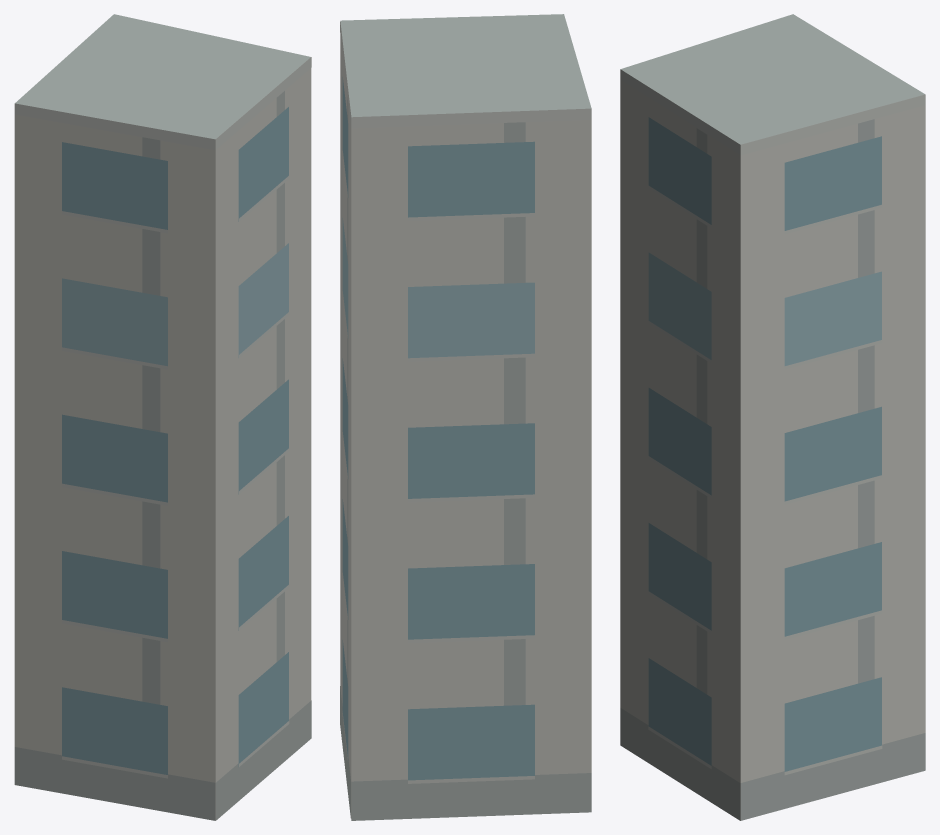
Rendered from survey-upis-32618424.glb.
3 renders of one model, left to right at view 1: azimuth 30°, elevation 25°; view 2: azimuth 150°, elevation 25°; view 3: azimuth 270°, elevation 25°, orthographic. The views are drawn at different scales.
Visible parts, largest first — view 1: survey-upis-32618424.tmp; view 2: survey-upis-32618424.tmp; view 3: survey-upis-32618424.tmp.
Part boxes in pixels (left/top/right/bottom): survey-upis-32618424.tmp: left=14, top=14, right=311, bottom=820; survey-upis-32618424.tmp: left=340, top=14, right=591, bottom=820; survey-upis-32618424.tmp: left=620, top=14, right=925, bottom=820.
Size of the model in its own units: 6.33 by 15.25 by 6.25.
